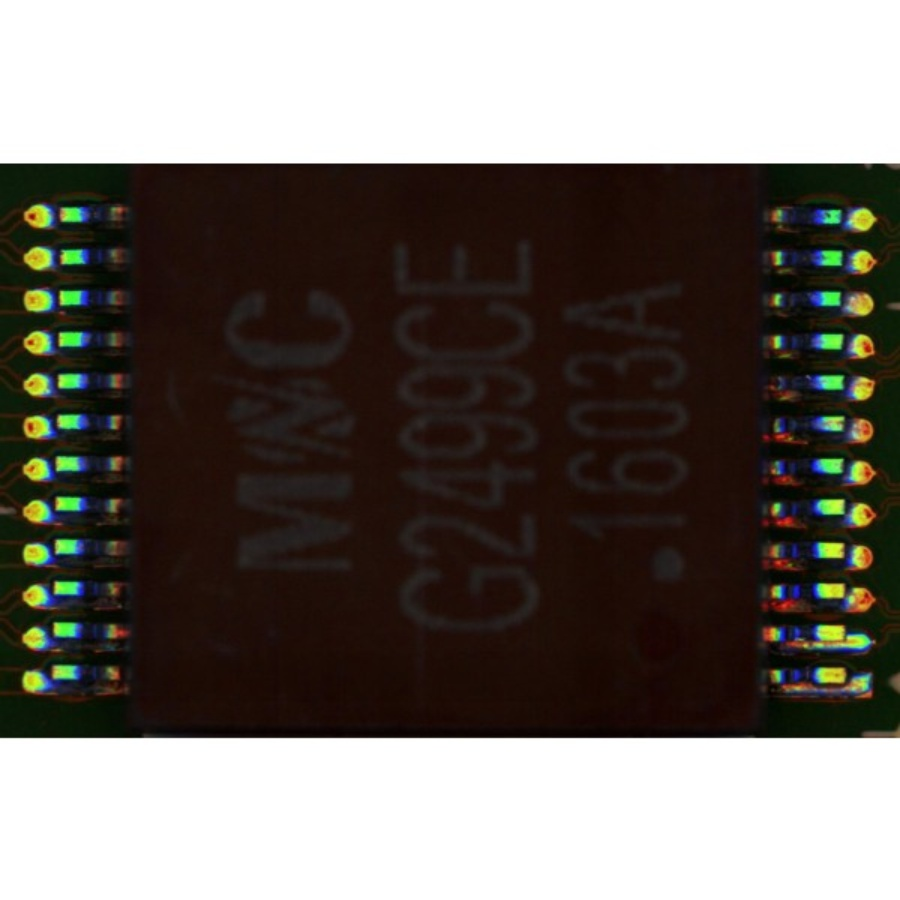Bad_qiaojiao: (780, 684, 846, 694), (790, 640, 845, 649)
